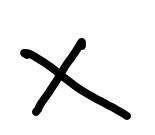mult: (18, 37, 130, 120)
